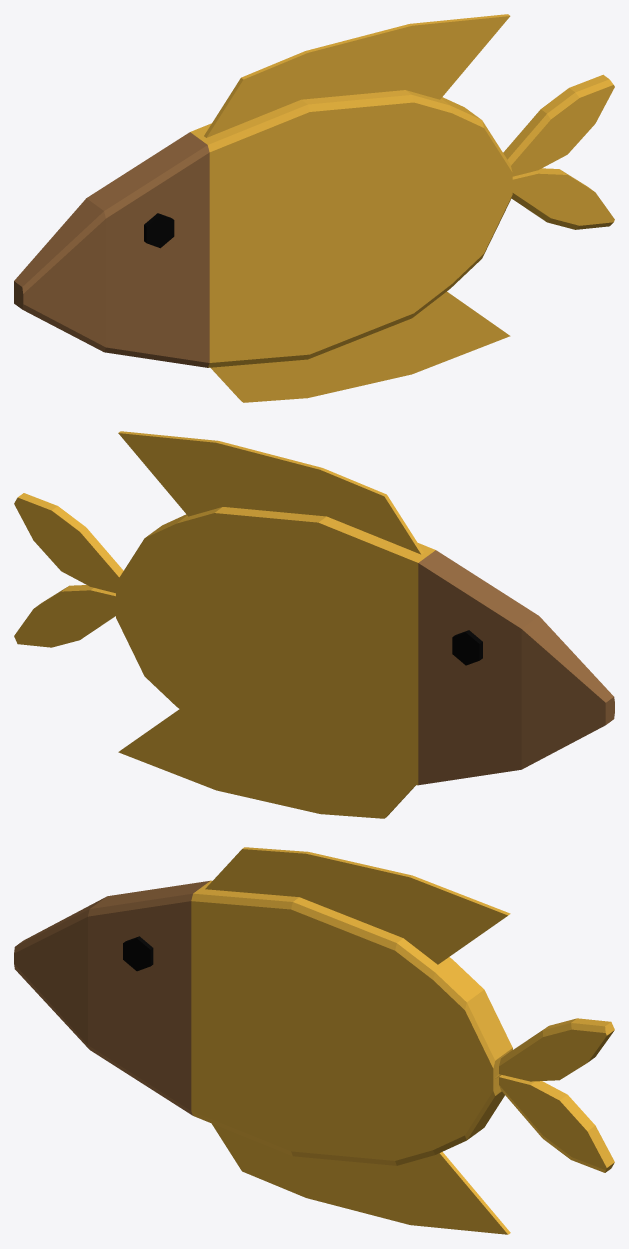
File: Fish.fbx
The picture shows the model from 3 angles, top to bottom: view 1: azimuth 30°, elevation 25°; view 2: azimuth 150°, elevation 25°; view 3: azimuth 330°, elevation 25°; orthographic projection.
Visible parts, largest first — view 1: Cube, Cube.001; view 2: Cube, Cube.001; view 3: Cube, Cube.001.
Boxes of the visible parts, box(x1,y1,x2,y2) form: Cube: box(14, 14, 614, 402); Cube.001: box(144, 213, 174, 248); Cube: box(14, 431, 614, 818); Cube.001: box(452, 630, 482, 665); Cube: box(14, 847, 614, 1234); Cube.001: box(123, 936, 153, 971).
Size of the model in its own units: 142 by 79.58 by 10.88.
